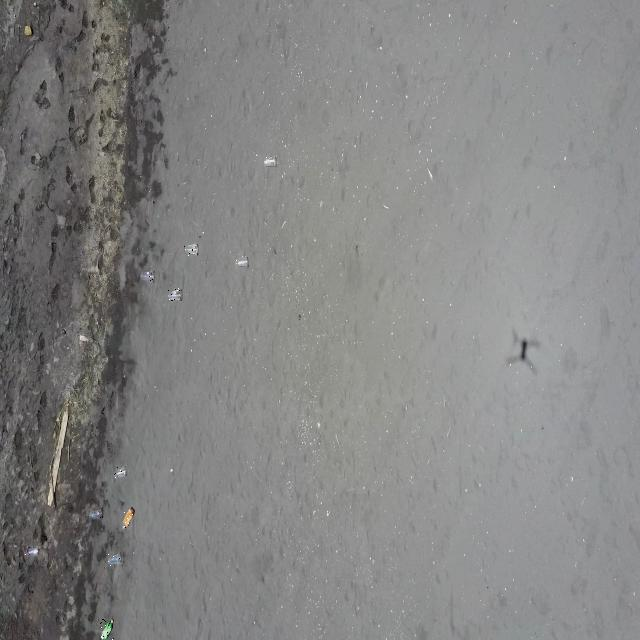plastic-bottle: (100, 618, 114, 640), (122, 507, 134, 529)
takeaway-cup: (168, 288, 182, 302), (184, 243, 198, 256), (108, 553, 121, 566), (236, 255, 249, 268), (264, 155, 276, 168), (140, 271, 154, 282), (90, 508, 102, 520), (25, 547, 38, 558), (114, 467, 126, 478)
